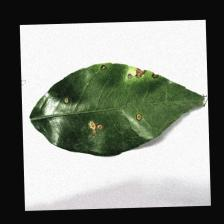canker: (61, 59, 168, 133)
